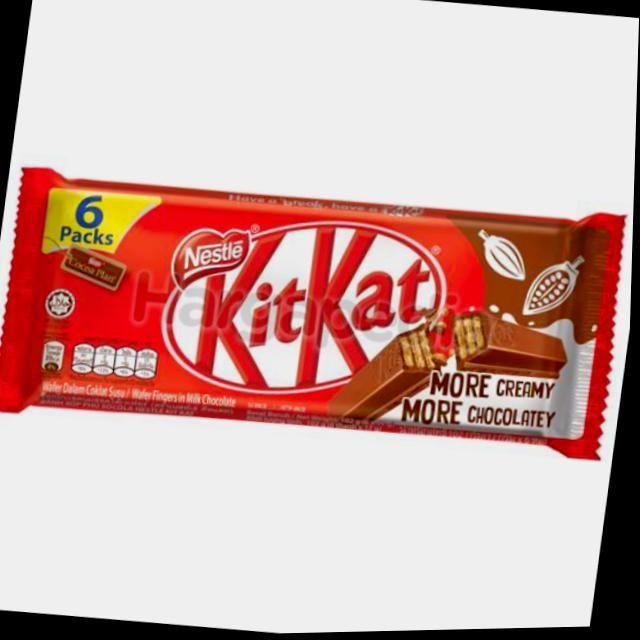kitkat_chocolate: (30, 188, 628, 450)
